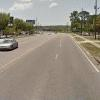Car: (2, 32, 21, 52)
